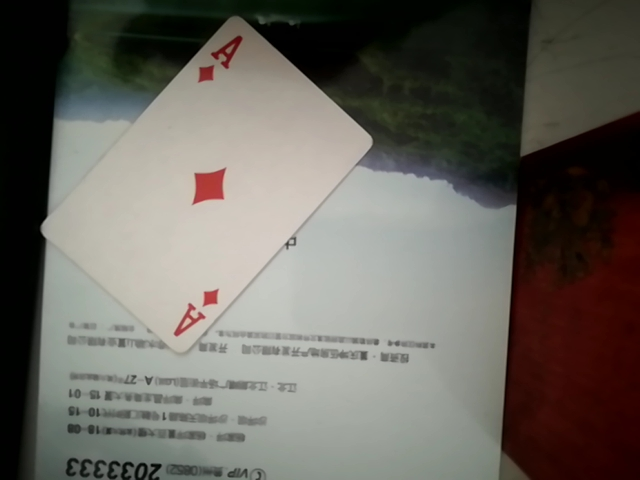fk a: (59, 12, 375, 358)
